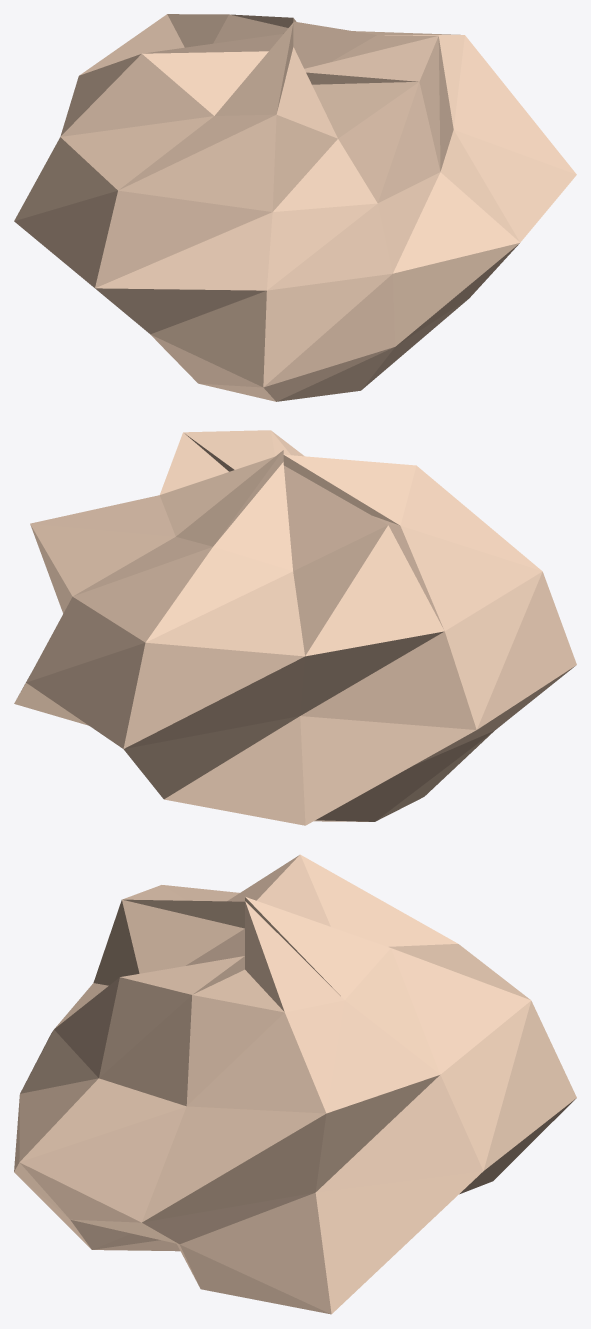
The model's file is rock_026.obj.
3 views of the same model, one above another, from view 1: azimuth 30°, elevation 25°; view 2: azimuth 150°, elevation 25°; view 3: azimuth 270°, elevation 25° (orthographic). The views are drawn at different scales.
Size of the model in its own units: 0.9211 by 0.6616 by 0.853.
